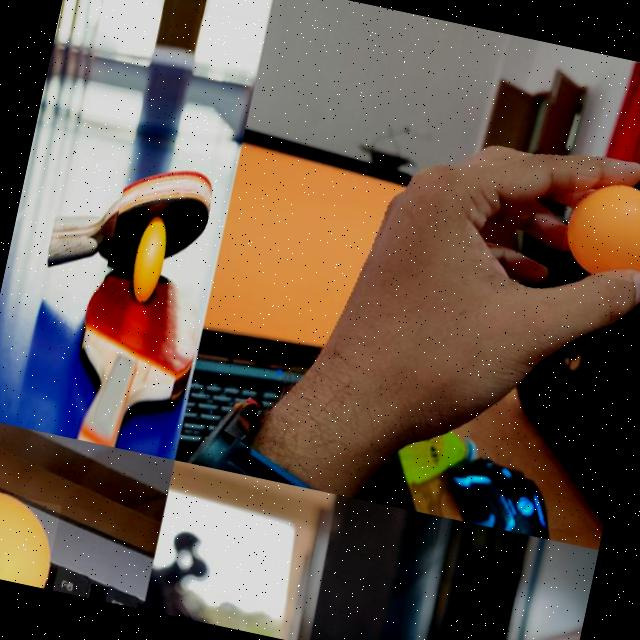ping-pong-ball: (556, 173, 640, 287), (0, 481, 62, 588), (125, 212, 171, 304)
